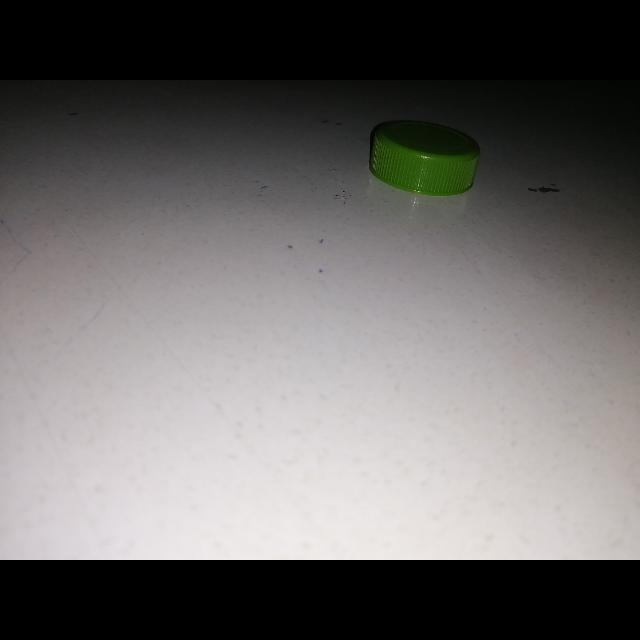plastic_bottle_cap: (370, 118, 480, 196)
